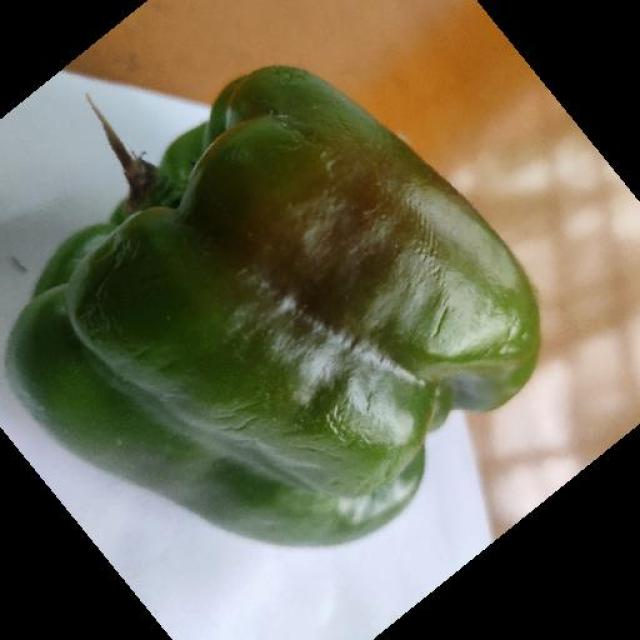Stale_Capsicum: (18, 114, 533, 510)
